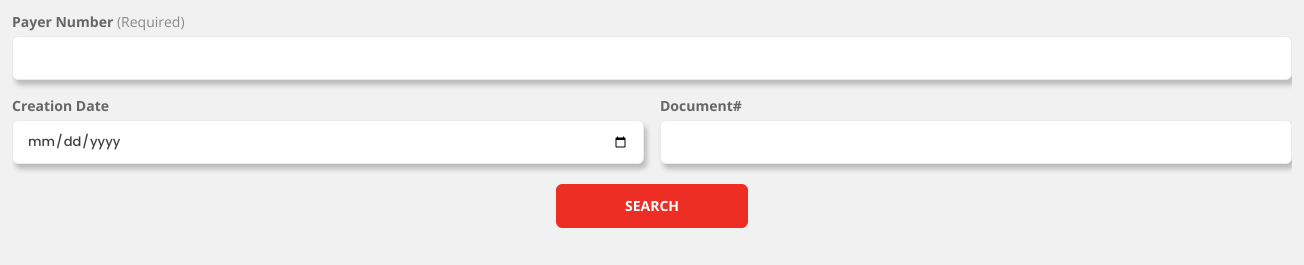
Scenario: SearchForm exclusive fields › locks the creation date once a document number is entered
This screenshot has width=1304, height=265.
Type "123456" into the field labelled "Document#". click: (976, 142)
box: [660,120,1292,164]
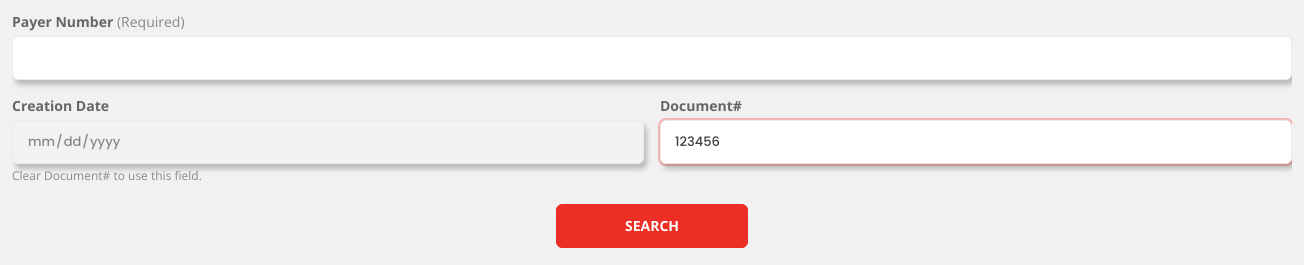
expect the date field labelled "Creation Date" is disabled: met, box [12,120,644,164]
expect the text "Clear Document# to use this field." is shown: met, box [12,167,202,184]
